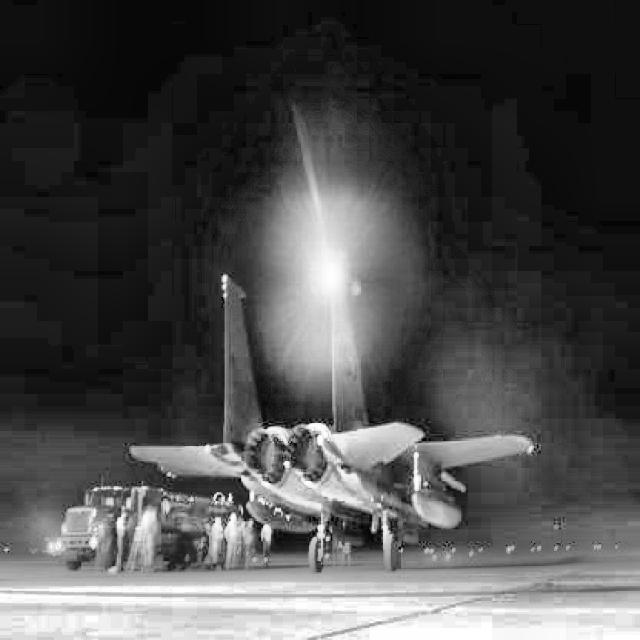F15: (130, 260, 533, 574)
